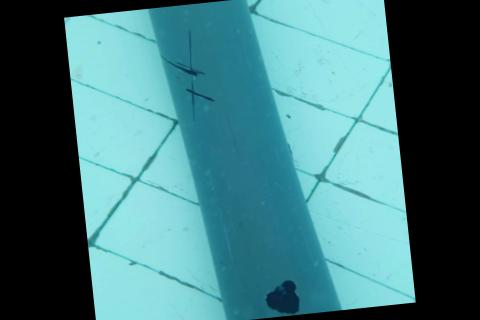kebocoran: (261, 276, 303, 318)
keretakan: (161, 28, 217, 120)
